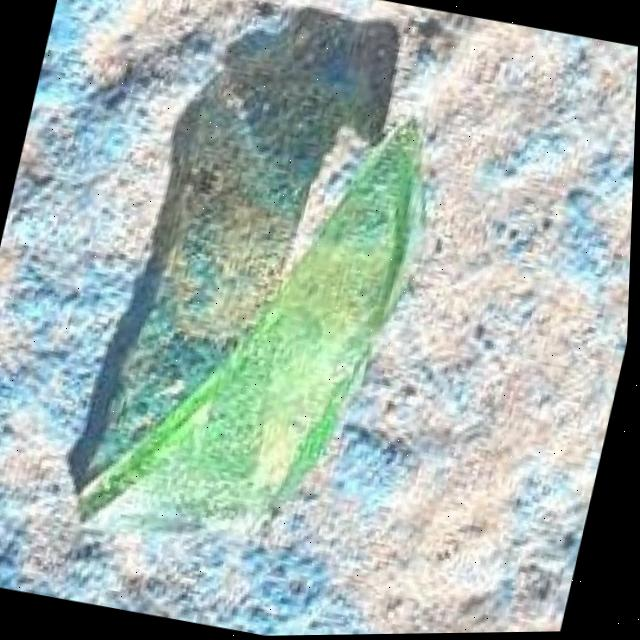Dry: (67, 71, 445, 583)
